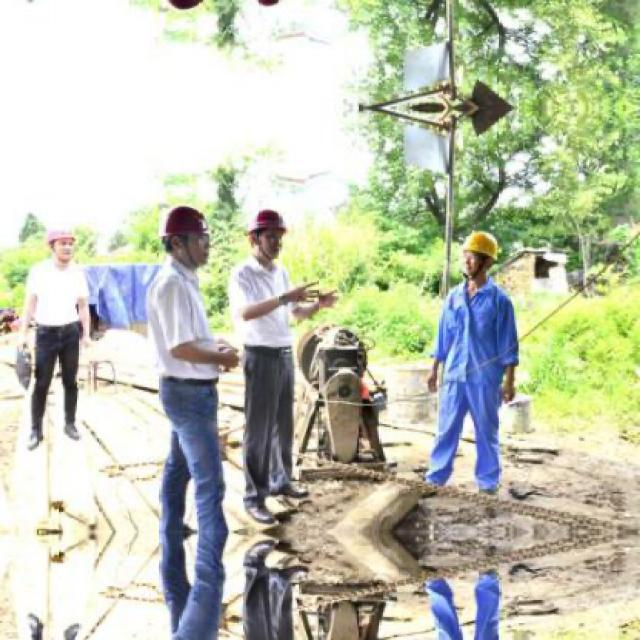helmet: (160, 205, 212, 272), (246, 204, 291, 264), (462, 230, 498, 282), (45, 217, 77, 270), (246, 0, 292, 14)
